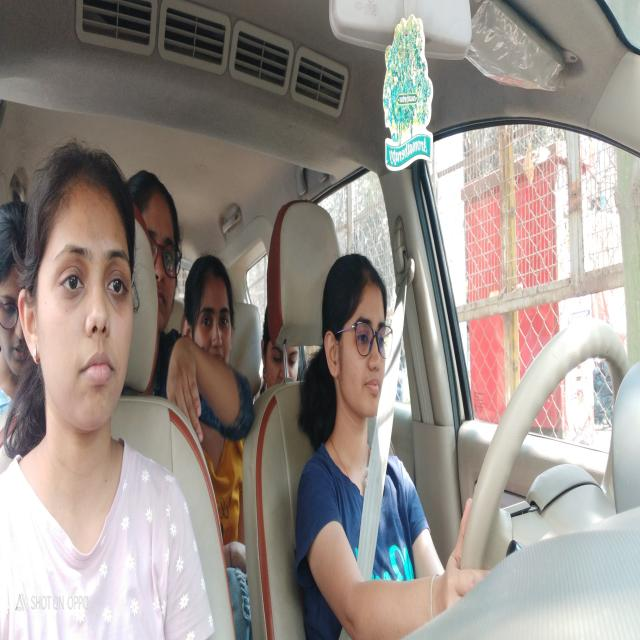person: (20, 149, 144, 429), (321, 247, 395, 436), (130, 163, 184, 322), (183, 248, 234, 381), (0, 196, 30, 383), (260, 296, 302, 404)
